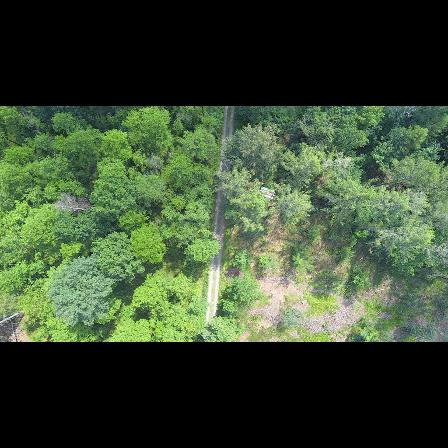Dead: (50, 191, 97, 217)
